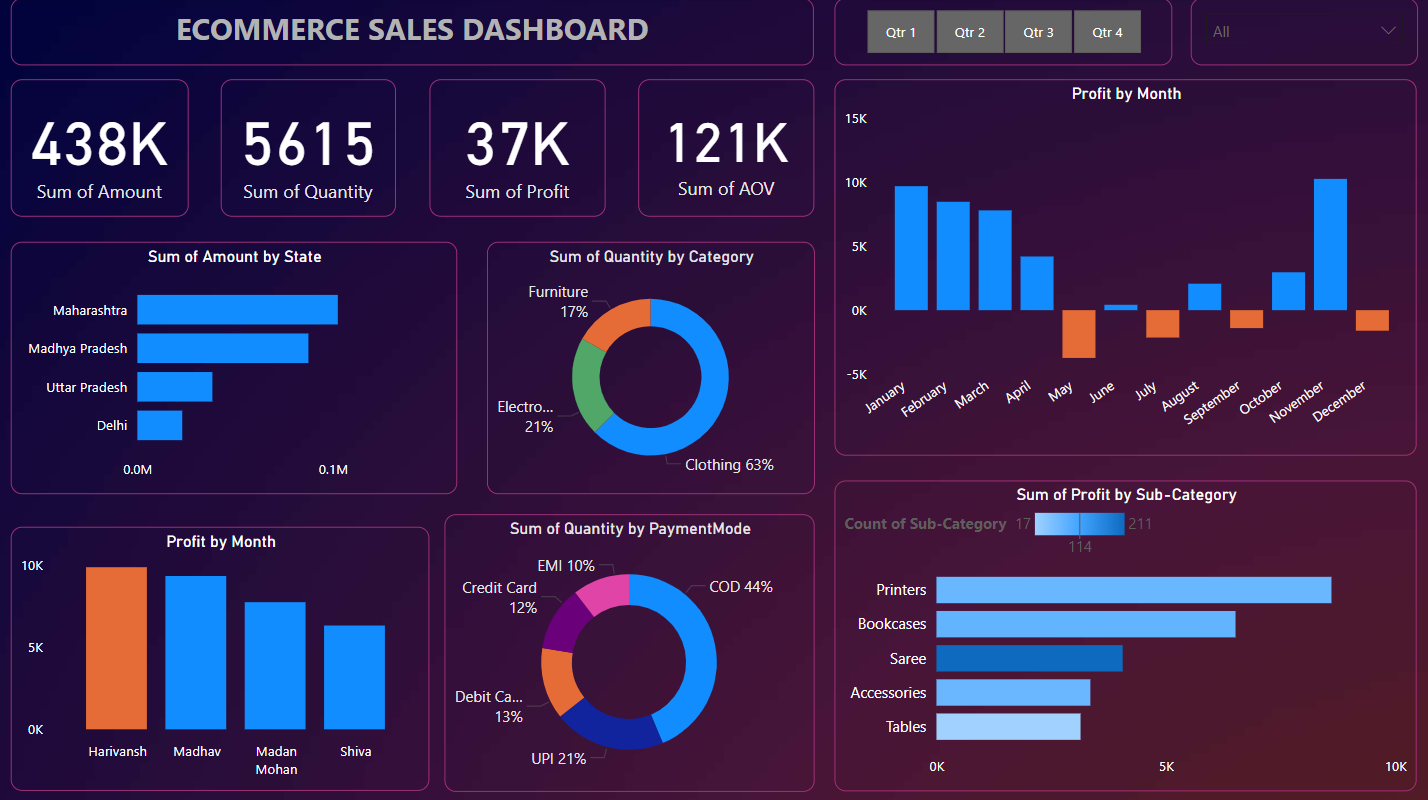

This screenshot's page, from the dashboard's own definition file:
{"tool":"powerbi","page":{"name":"Page 1","canvas":[1280,720],"ordinal":0},"visuals":[{"type":"columnChart","title":"Profit by Month","fields":{"Category":["Orders.Order Date.Variation.Date Hierarchy.Month"],"Y":["Details.Profit"]},"box":[745.8,72.4,518.7,335.1],"z":0},{"type":"barChart","fields":{"Category":["Details.Sub-Category"],"Y":["Details.Profit"]},"box":[745.8,429.7,518.7,277.2],"z":1000},{"type":"donutChart","fields":{"Category":["Details.Category"],"Y":["Details.Quantity"]},"box":[436.4,217.1,291.7,224.9],"z":2000},{"type":"donutChart","fields":{"Category":["Details.PaymentMode","Details.Category"],"Y":["Details.Quantity"]},"box":[398.5,459.7,329.5,247.1],"z":3000},{"type":"card","fields":{"Values":["Details.Amount"]},"box":[12.2,72.4,158.1,122.4],"z":4000},{"type":"card","fields":{"Values":["Details.Quantity"]},"box":[199.3,72.4,155.8,122.4],"z":5000},{"type":"card","fields":{"Values":["Details.Profit"]},"box":[385.2,72.4,157,122.4],"z":6000},{"type":"card","fields":{"Values":["Details.AOV"]},"box":[570.6,72.4,157.1,122.7],"z":7000},{"type":"barChart","fields":{"Category":["Orders.State"],"Y":["Details.Amount"]},"box":[12.2,217.1,397.4,224.9],"z":8000},{"type":"columnChart","title":"Profit by Month","fields":{"Category":["Orders.CustomerName"],"Y":["Details.Amount"]},"box":[12.3,471.2,373,235.6],"z":9000},{"type":"textbox","box":[12.3,0,715.3,60.1],"z":10000},{"type":"slicer","fields":{"Values":["Orders.Order Date.Variation.Date Hierarchy.Quarter"]},"box":[746,0,300.6,60.1],"z":11000},{"type":"slicer","fields":{"Values":["Orders.State"]},"box":[1062.6,0,202.5,60.1],"z":12000}]}

Visuals, with their boxes in screenshot pixels (x1, y1, x2, y2), scaled from the page's 1280x720 canvas onto the 1428x800 screenshot:
"Profit by Month" columnChart: box=[832, 80, 1411, 453]
barChart - Details.Sub-Category x Details.Profit: box=[832, 477, 1411, 785]
donutChart - Details.Category x Details.Quantity: box=[487, 241, 812, 491]
donutChart - Details.PaymentMode x Details.Category: box=[445, 511, 812, 785]
card - Details.Amount: box=[14, 80, 190, 216]
card - Details.Quantity: box=[222, 80, 396, 216]
card - Details.Profit: box=[430, 80, 605, 216]
card - Details.AOV: box=[637, 80, 812, 217]
barChart - Orders.State x Details.Amount: box=[14, 241, 457, 491]
"Profit by Month" columnChart: box=[14, 524, 430, 785]
textbox: box=[14, 0, 812, 67]
slicer - Orders.Order Date.Variation.Date Hierarchy.Quarter: box=[832, 0, 1168, 67]
slicer - Orders.State: box=[1185, 0, 1411, 67]
